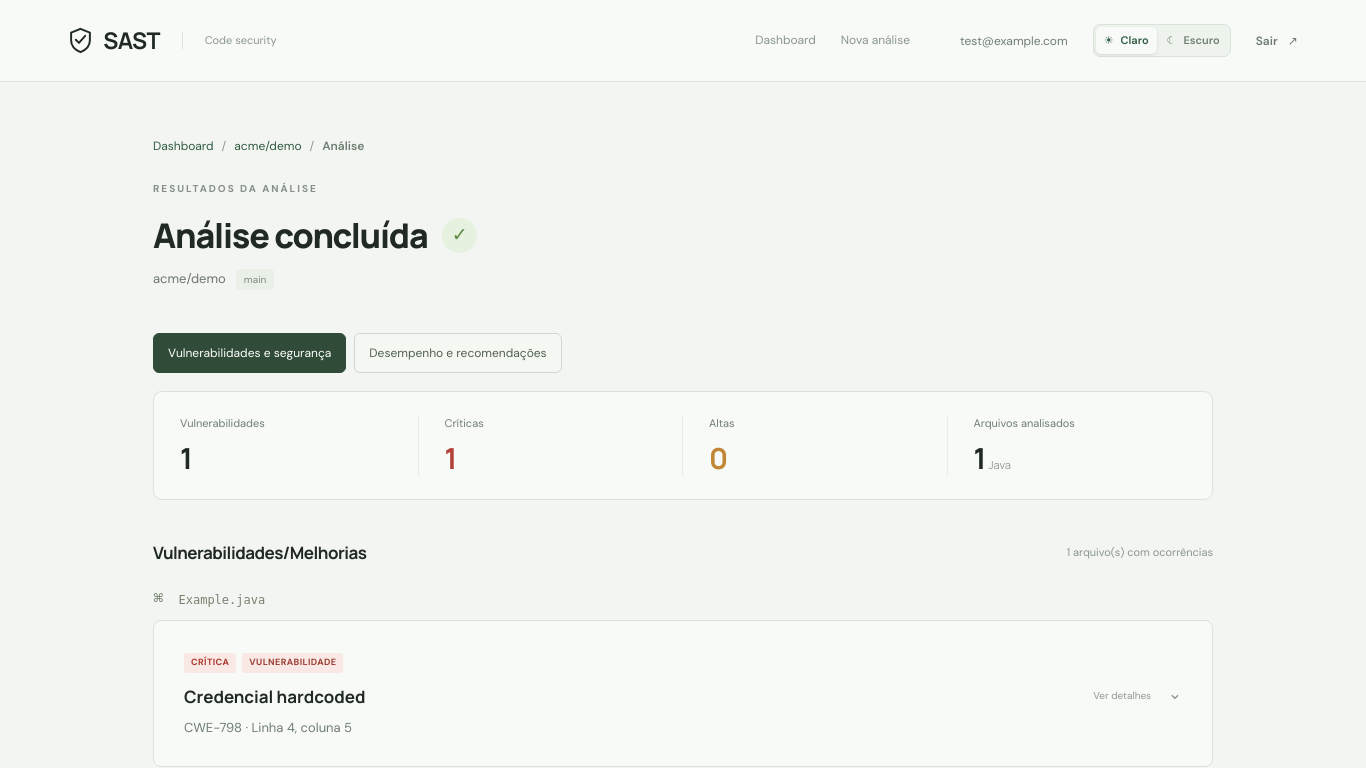
Scenario: fluxo autenticado da análise › BDD-E-07: restaura análise pela URL e encerra sessão
Expected: the heading "Análise concluída ✓" is shown, [153,214,476,256]
Click the button "Sair ↗" at (1277,40), box [1256,26,1298,56]
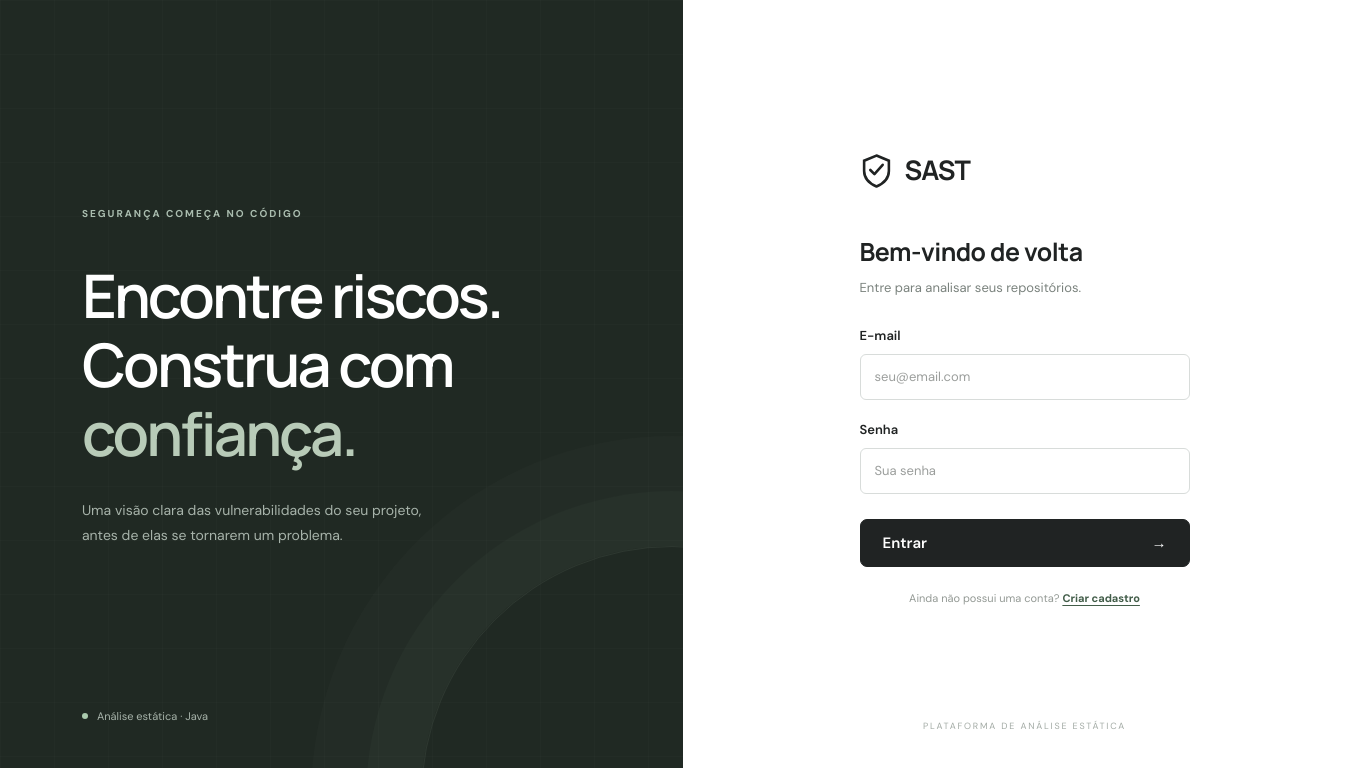
Now the password field labelled "Senha" is shown, box [860,448,1190,494]
